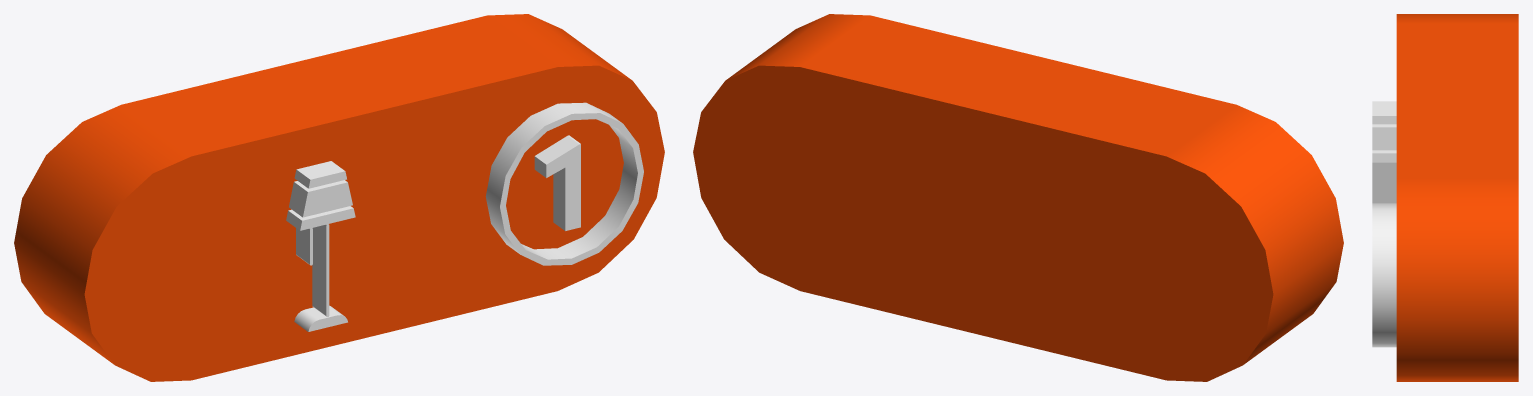
File: Lamp_1.fbx
3 views of the same model, side by side, from view 1: azimuth 30°, elevation 25°; view 2: azimuth 150°, elevation 25°; view 3: azimuth 270°, elevation 25° (orthographic). The views are drawn at different scales.
Parts seen in each view (by area): view 1: Orange, Object_1, Object_10, Object_8, Object_6, Object_9, Object_7, Object_4, Object_5; view 2: Orange; view 3: Orange, Object_1, Object_6, Object_8, Object_9, Object_7.
Part boxes in pixels (x1,y1,x2,y2): Orange: [14, 14, 664, 381]; Object_1: [485, 102, 643, 265]; Object_10: [534, 135, 580, 230]; Object_8: [289, 180, 352, 217]; Object_6: [312, 224, 329, 316]; Object_9: [294, 161, 346, 188]; Object_7: [286, 206, 355, 230]; Object_4: [294, 305, 347, 331]; Object_5: [296, 228, 312, 265]; Orange: [693, 14, 1343, 381]; Orange: [1396, 14, 1518, 381]; Object_1: [1372, 203, 1396, 347]; Object_6: [1372, 162, 1396, 203]; Object_8: [1372, 124, 1396, 150]; Object_9: [1372, 101, 1396, 124]; Object_7: [1372, 150, 1396, 162].
Size of the model in its own units: 4.75 by 1.2 by 1.75.
